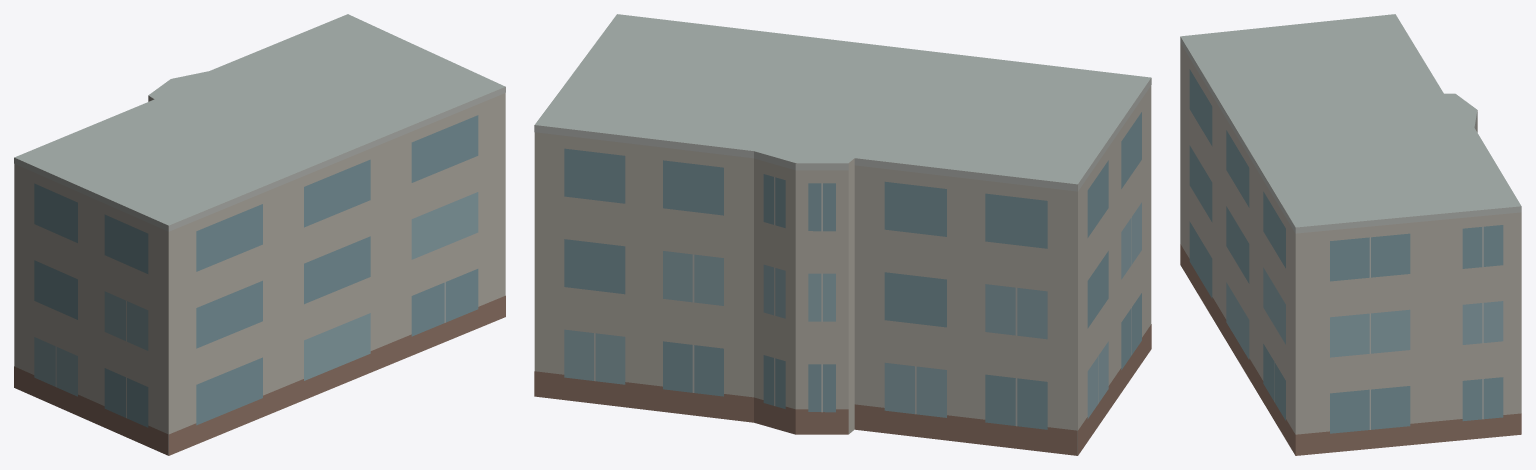
Rendered from survey-upis-32619558.glb.
3 renders of one model, left to right at view 1: azimuth 30°, elevation 25°; view 2: azimuth 150°, elevation 25°; view 3: azimuth 270°, elevation 25°, orthographic. The views are drawn at different scales.
Parts seen in each view (by area): view 1: survey-upis-32619558.tmp; view 2: survey-upis-32619558.tmp; view 3: survey-upis-32619558.tmp.
Part boxes in pixels (x1,y1,x2,y2): survey-upis-32619558.tmp: (14,14,505,455); survey-upis-32619558.tmp: (534,14,1151,455); survey-upis-32619558.tmp: (1180,14,1521,455).
Size of the model in its own units: 18.36 by 9.15 by 12.4.
